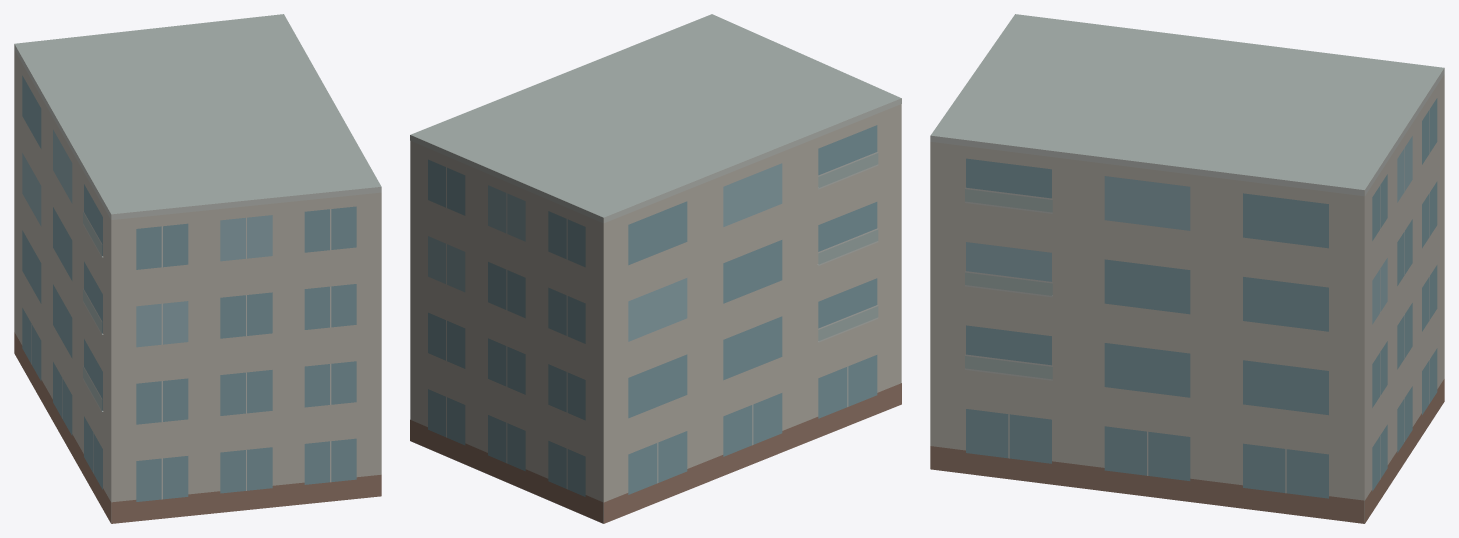
The model's file is survey-upis-32946083.glb.
3 views of the same model, side by side, from view 1: azimuth 30°, elevation 25°; view 2: azimuth 150°, elevation 25°; view 3: azimuth 270°, elevation 25° (orthographic). The views are drawn at different scales.
Visible parts, largest first — view 1: survey-upis-32946083.tmp; view 2: survey-upis-32946083.tmp; view 3: survey-upis-32946083.tmp.
Boxes of the visible parts, x1=… form: survey-upis-32946083.tmp: x1=14, y1=14, x2=381, y2=523; survey-upis-32946083.tmp: x1=410, y1=14, x2=901, y2=523; survey-upis-32946083.tmp: x1=930, y1=14, x2=1444, y2=523.
Size of the model in its own units: 14.84 by 13.1 by 18.3.
